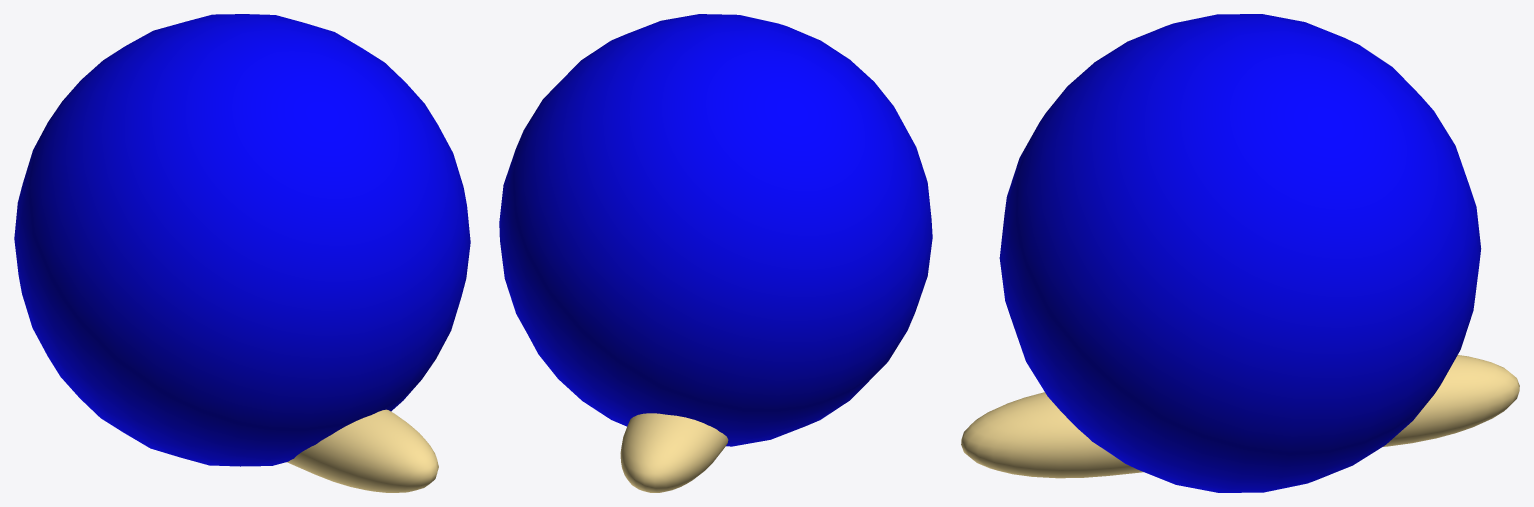
3 renders of one model, left to right at view 1: azimuth 30°, elevation 25°; view 2: azimuth 150°, elevation 25°; view 3: azimuth 270°, elevation 25°, orthographic. The views are drawn at different scales.
Parts seen in each view (by area): view 1: 飞羽_红, Capsule; view 2: 飞羽_红, Capsule; view 3: 飞羽_红, Capsule.
Boxes of the visible parts, left/top/right/bottom form: 飞羽_红: left=14, top=14, right=470, bottom=466; Capsule: left=287, top=409, right=438, bottom=492; 飞羽_红: left=499, top=14, right=932, bottom=446; Capsule: left=620, top=413, right=728, bottom=492; 飞羽_红: left=999, top=14, right=1481, bottom=492; Capsule: left=961, top=355, right=1519, bottom=478.
Size of the model in its own units: 0.4995 by 0.5 by 0.5796.
